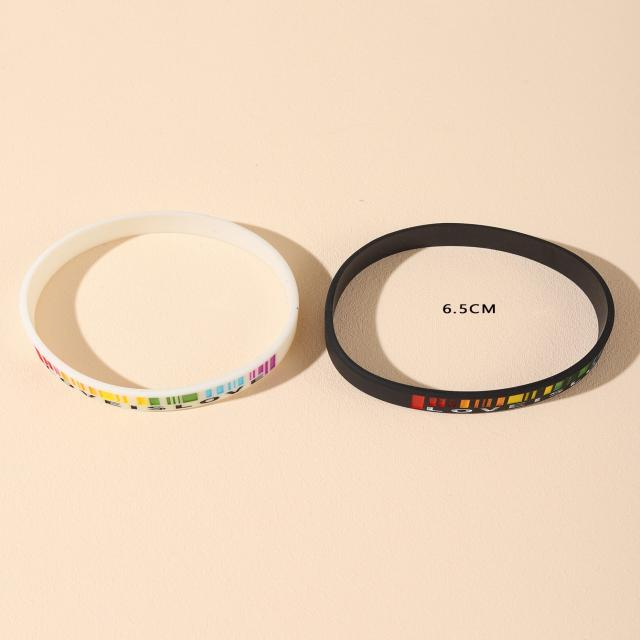bracelet: (309, 153, 640, 483), (23, 150, 321, 488)
